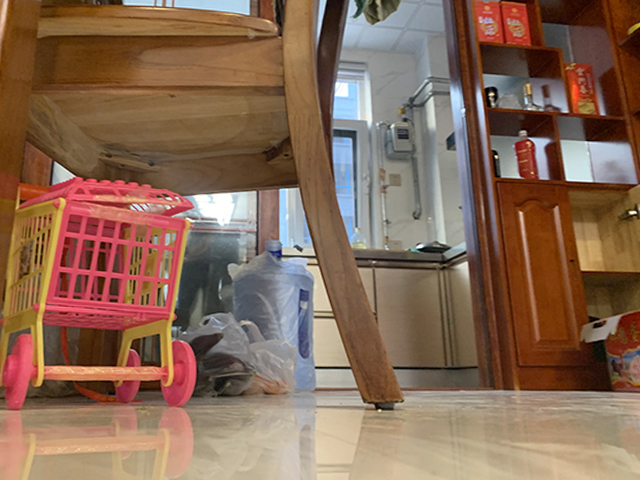cabinet: (484, 173, 640, 394), (313, 237, 481, 389)
stool: (30, 1, 405, 412)
